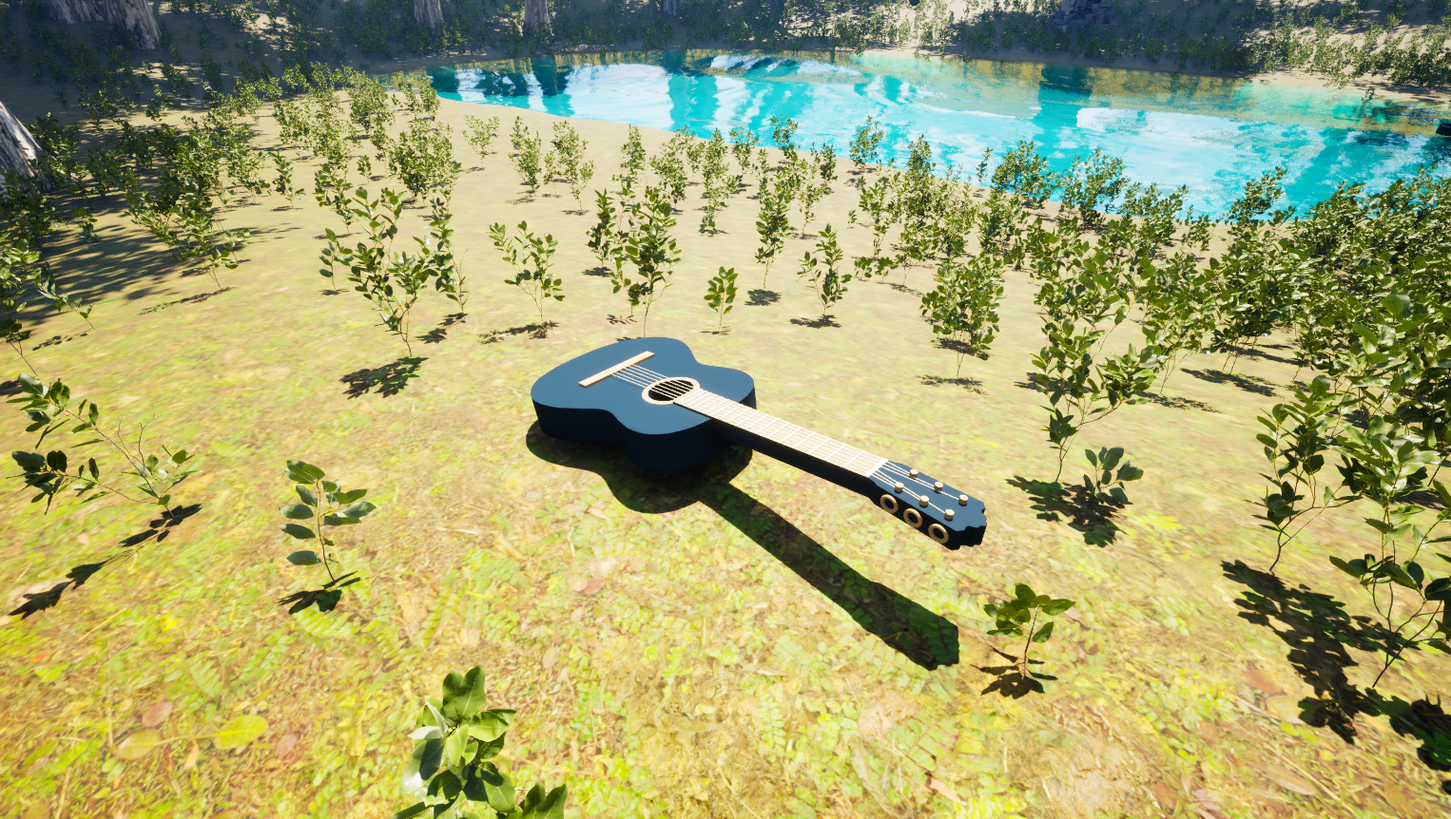Guitar: (489, 262, 1059, 721)
